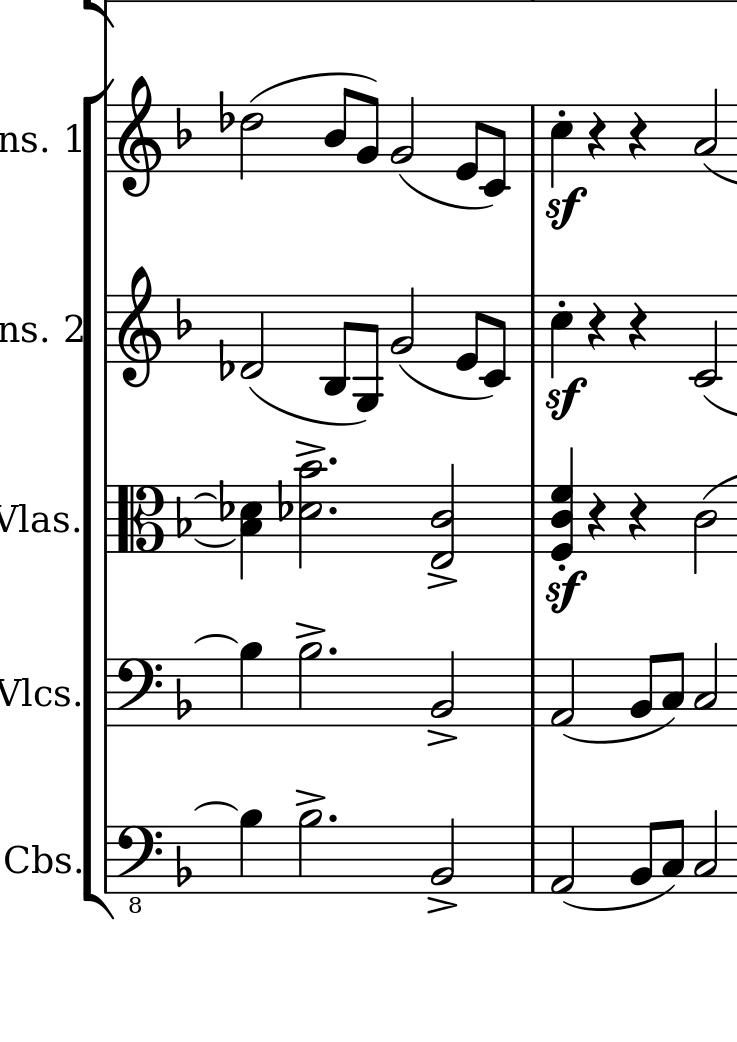2_-1: (236, 289, 273, 379)
2_-1_4: (430, 463, 456, 572)
2_-2: (693, 293, 722, 389)
2_1: (545, 659, 579, 729), (549, 823, 575, 897)
2_2: (392, 95, 421, 179), (391, 283, 420, 367), (431, 649, 459, 732), (430, 816, 456, 897)
2_3: (692, 638, 722, 729), (692, 89, 722, 177), (691, 805, 720, 896)
2_4: (691, 482, 722, 578)
2_5_10: (293, 459, 327, 573)
2_6: (238, 102, 266, 183)
2_9: (295, 641, 326, 734), (293, 808, 323, 899)
4_3_5: (239, 484, 263, 581)
4_5: (548, 103, 576, 189), (549, 295, 572, 379)
4_9: (234, 640, 264, 730), (235, 810, 265, 894)
4_th: (551, 446, 573, 563)
8_-2: (484, 102, 512, 201), (483, 289, 510, 390)
8_-3: (322, 291, 359, 396)
8_-5: (353, 291, 386, 413)
8_0: (452, 290, 488, 370), (456, 101, 484, 181)
8_2: (622, 652, 660, 728), (354, 88, 381, 174), (629, 819, 656, 896)
8_3: (662, 648, 687, 731), (661, 817, 686, 899)
8_4: (324, 86, 356, 176)
Accent_above: (423, 570, 458, 590), (294, 620, 325, 640), (294, 438, 325, 457), (427, 729, 458, 748), (295, 788, 326, 807), (428, 896, 458, 914)
Bracke: (80, 80, 117, 920)
Cb: (4, 841, 55, 876)
Cclef: (115, 484, 166, 556)
Fclef: (114, 658, 164, 731)
Flat: (272, 474, 299, 529), (170, 105, 196, 153), (173, 292, 194, 346), (173, 841, 194, 892), (175, 675, 196, 723), (214, 87, 234, 135), (215, 473, 230, 536), (175, 495, 195, 542), (216, 337, 234, 383)
Gclef: (115, 74, 164, 197), (117, 261, 163, 387)
Lower_Fclef: (114, 824, 167, 915)
Rests4: (582, 490, 607, 541), (627, 109, 651, 162), (584, 300, 608, 353), (626, 301, 649, 354), (625, 490, 648, 541), (587, 110, 608, 162)
Single_barline: (520, 825, 544, 895), (521, 658, 544, 727), (521, 485, 544, 553), (96, 827, 116, 894), (98, 484, 117, 553), (96, 658, 115, 725), (524, 105, 542, 173), (100, 104, 117, 172), (526, 295, 543, 363), (100, 295, 117, 362)
Slur: (248, 385, 366, 425), (248, 71, 380, 103), (398, 172, 492, 211), (398, 363, 494, 400), (561, 883, 677, 911), (563, 716, 676, 744), (190, 633, 237, 645), (191, 537, 235, 548), (193, 800, 238, 810), (193, 491, 217, 501)
Vla: (1, 497, 51, 542)
Vlc: (1, 672, 52, 712)
dot: (326, 455, 340, 469), (327, 503, 340, 517), (327, 644, 339, 657)
sf: (545, 374, 584, 425), (541, 568, 585, 613), (545, 186, 588, 231)
